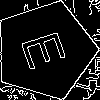E: (20, 25, 76, 72)
